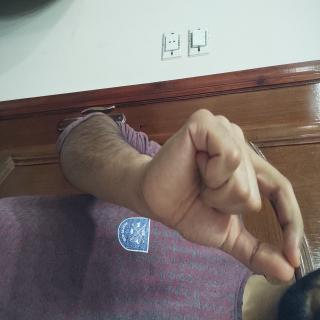FAA: (81, 13, 222, 253)
